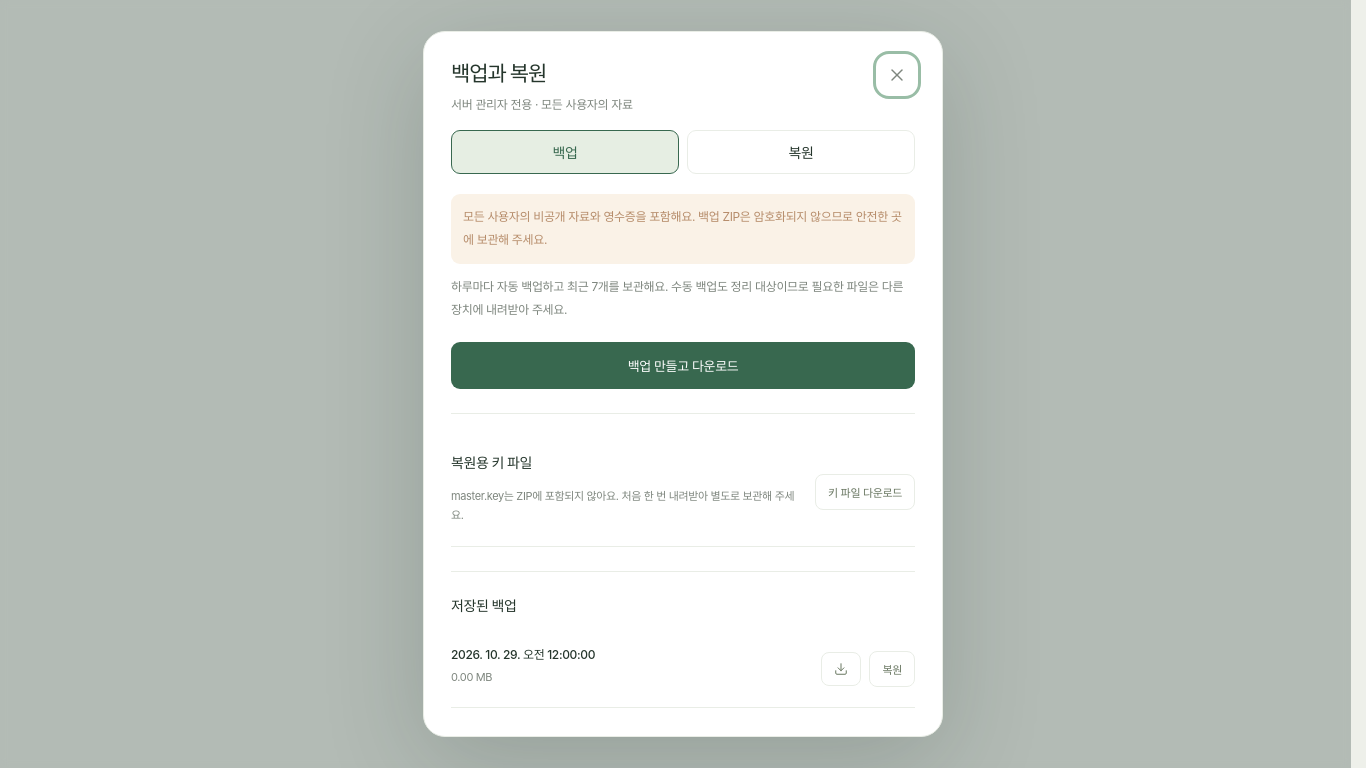
checks a saved backup before displaying destructive confirmation
This screenshot has width=1366, height=768.
Expected: the button named "백업 다운로드" is shown, [822,652,862,686]
Click the 2nd button "복원" at (892, 669), box [870,651,915,687]
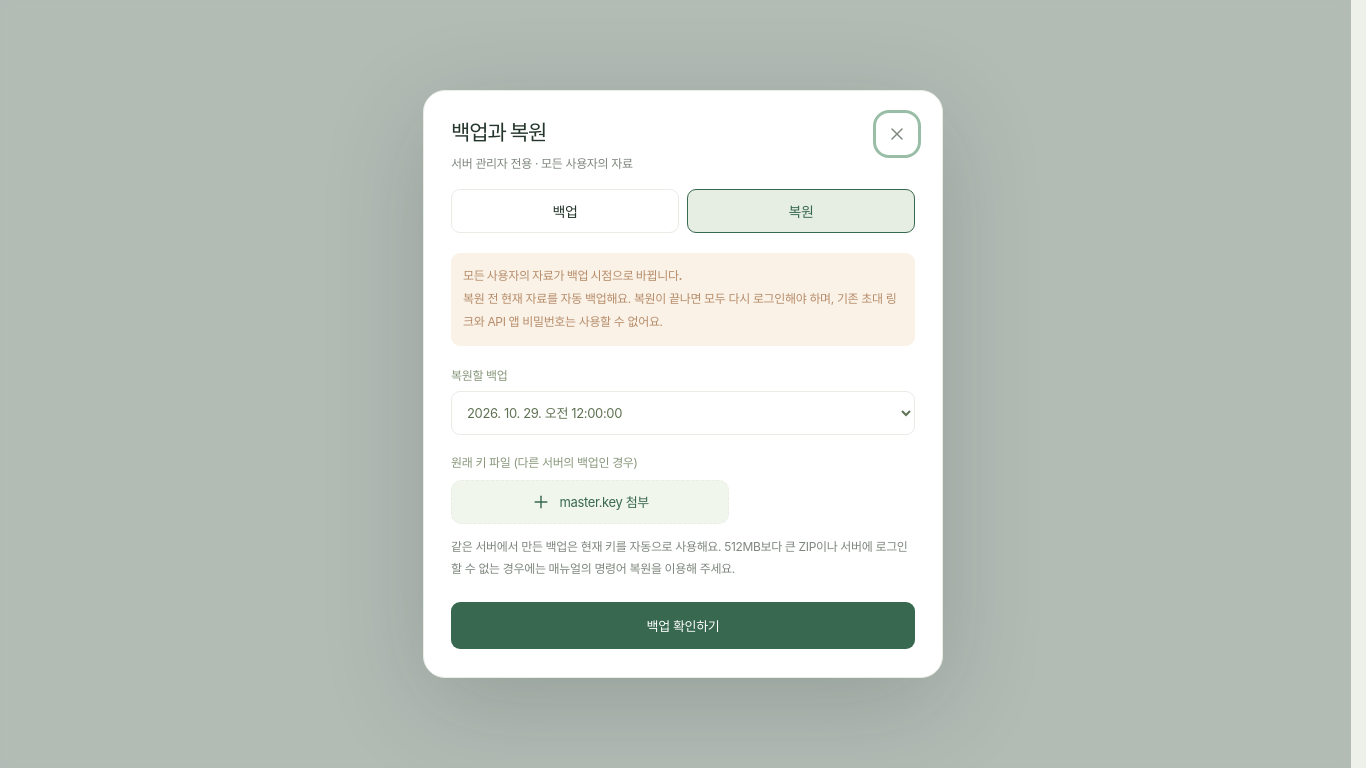
Expected: the text "현재 자료 백업 후 복원" is not shown
Click the button "백업 확인하기" at (683, 626), box [451,602,915,649]
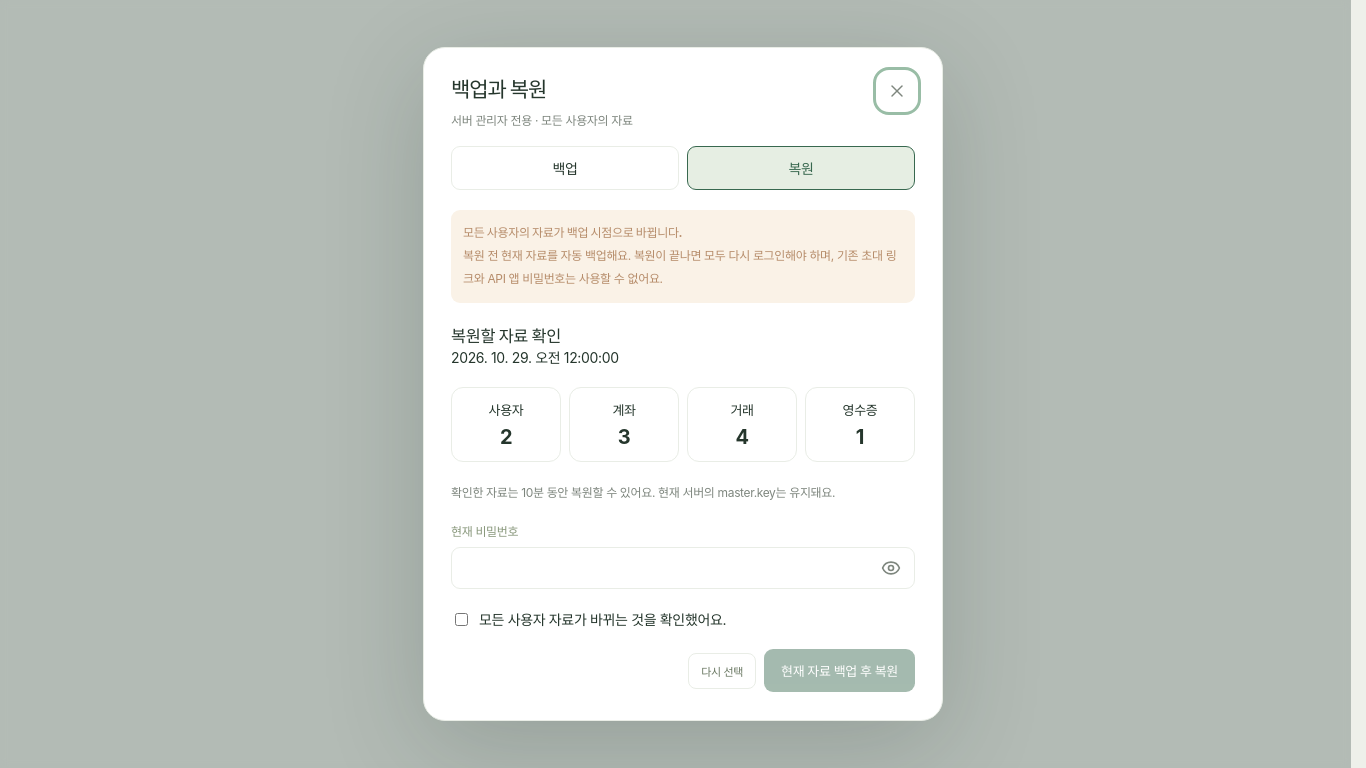
Result: the heading "복원할 자료 확인" is shown at [451,326,561,346]
Result: the button "현재 자료 백업 후 복원" is disabled at [764,649,915,692]
Click the checkbox labelled "모든 사용자 자료가 바뀌는 것을 확인했어요." at (462, 620), box [455,613,468,626]
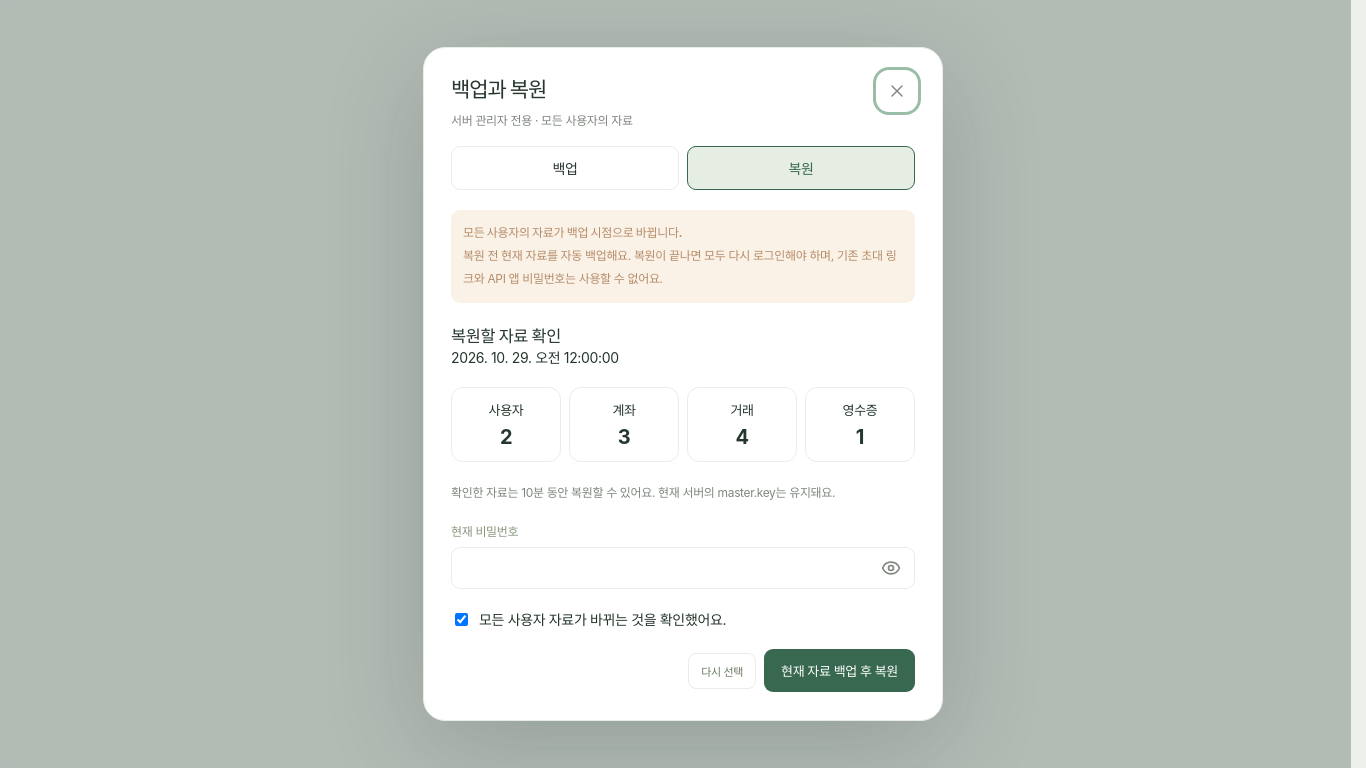
Result: the button "현재 자료 백업 후 복원" is enabled at [764,649,915,692]
